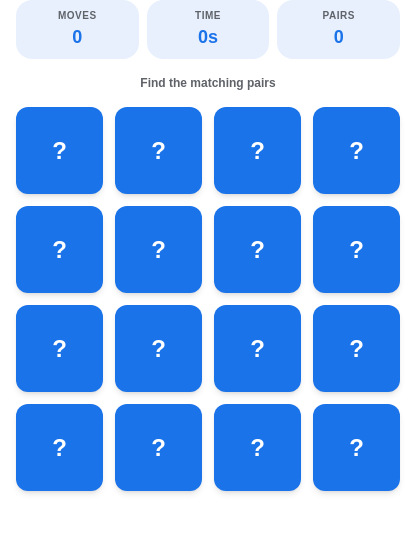
Test: MemoryMatch › shows a rejection inline, flips the card back and lets the player retry
Click the 1st button "?".
click(60, 150)  # box [16, 107, 103, 194]
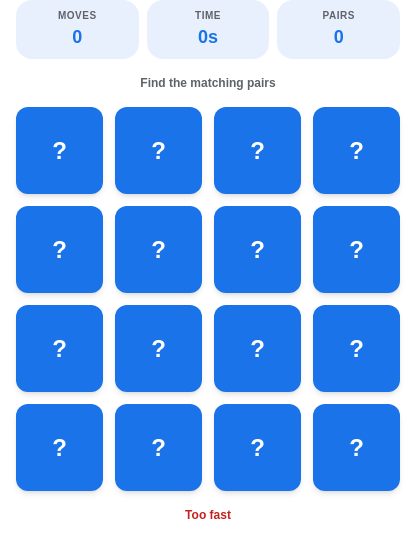
Check: the message reads "Too fast", box [185, 508, 231, 522]
Click the 1st button "?".
click(60, 150)  # box [16, 107, 103, 194]
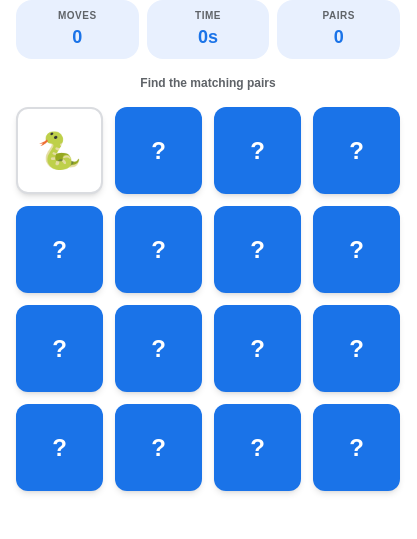
Check: the message "Too fast" is gone
